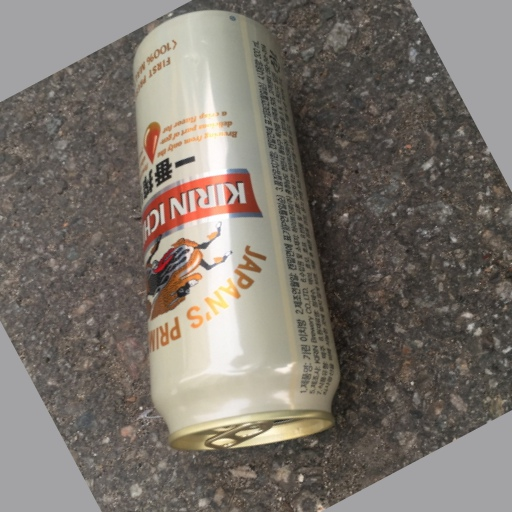Metal_0: (131, 12, 341, 452)
